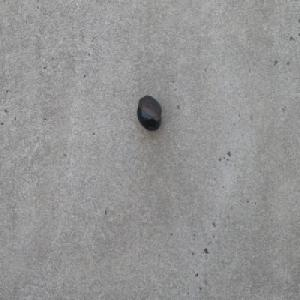FuelCap: (136, 94, 162, 132)
